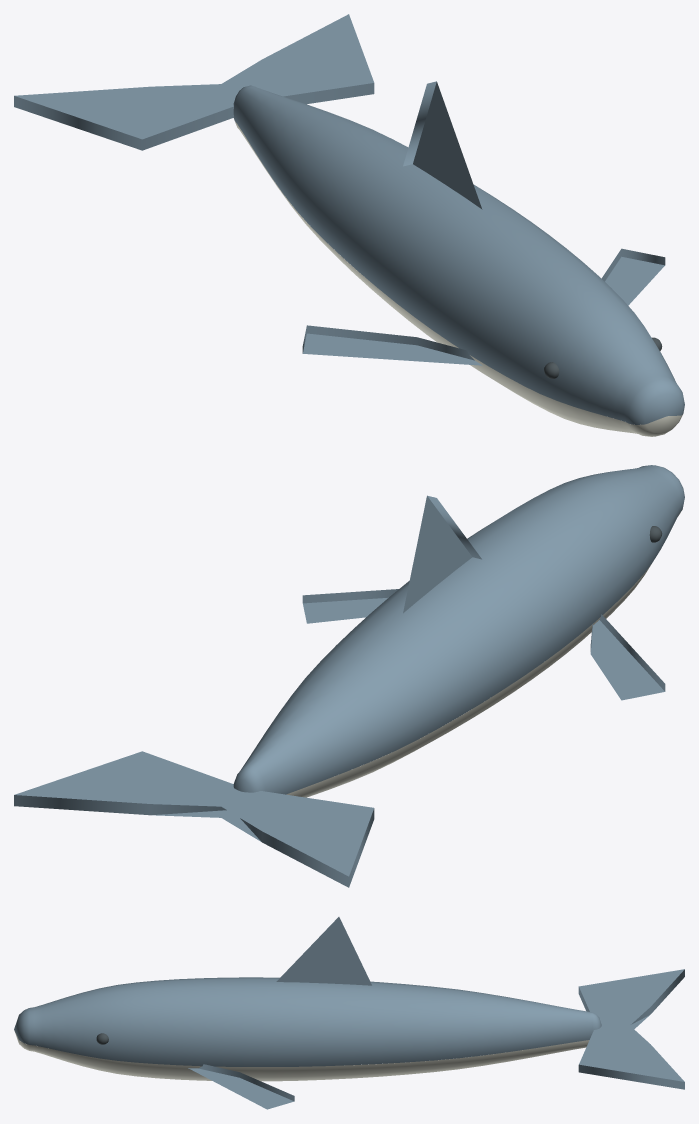
File: real-blue.glb
3 renders of one model, top to bottom at view 1: azimuth 30°, elevation 25°; view 2: azimuth 150°, elevation 25°; view 3: azimuth 270°, elevation 25°, orthographic. The views are drawn at different scales.
Parts seen in each view (by area): view 1: blue-whale; view 2: blue-whale; view 3: blue-whale.
Boxes of the visible parts, box(x1,y1,x2,y2) form: blue-whale: box(14, 14, 684, 436); blue-whale: box(14, 465, 684, 887); blue-whale: box(14, 917, 684, 1109).
Size of the model in its own units: 10.77 by 6.47 by 25.
